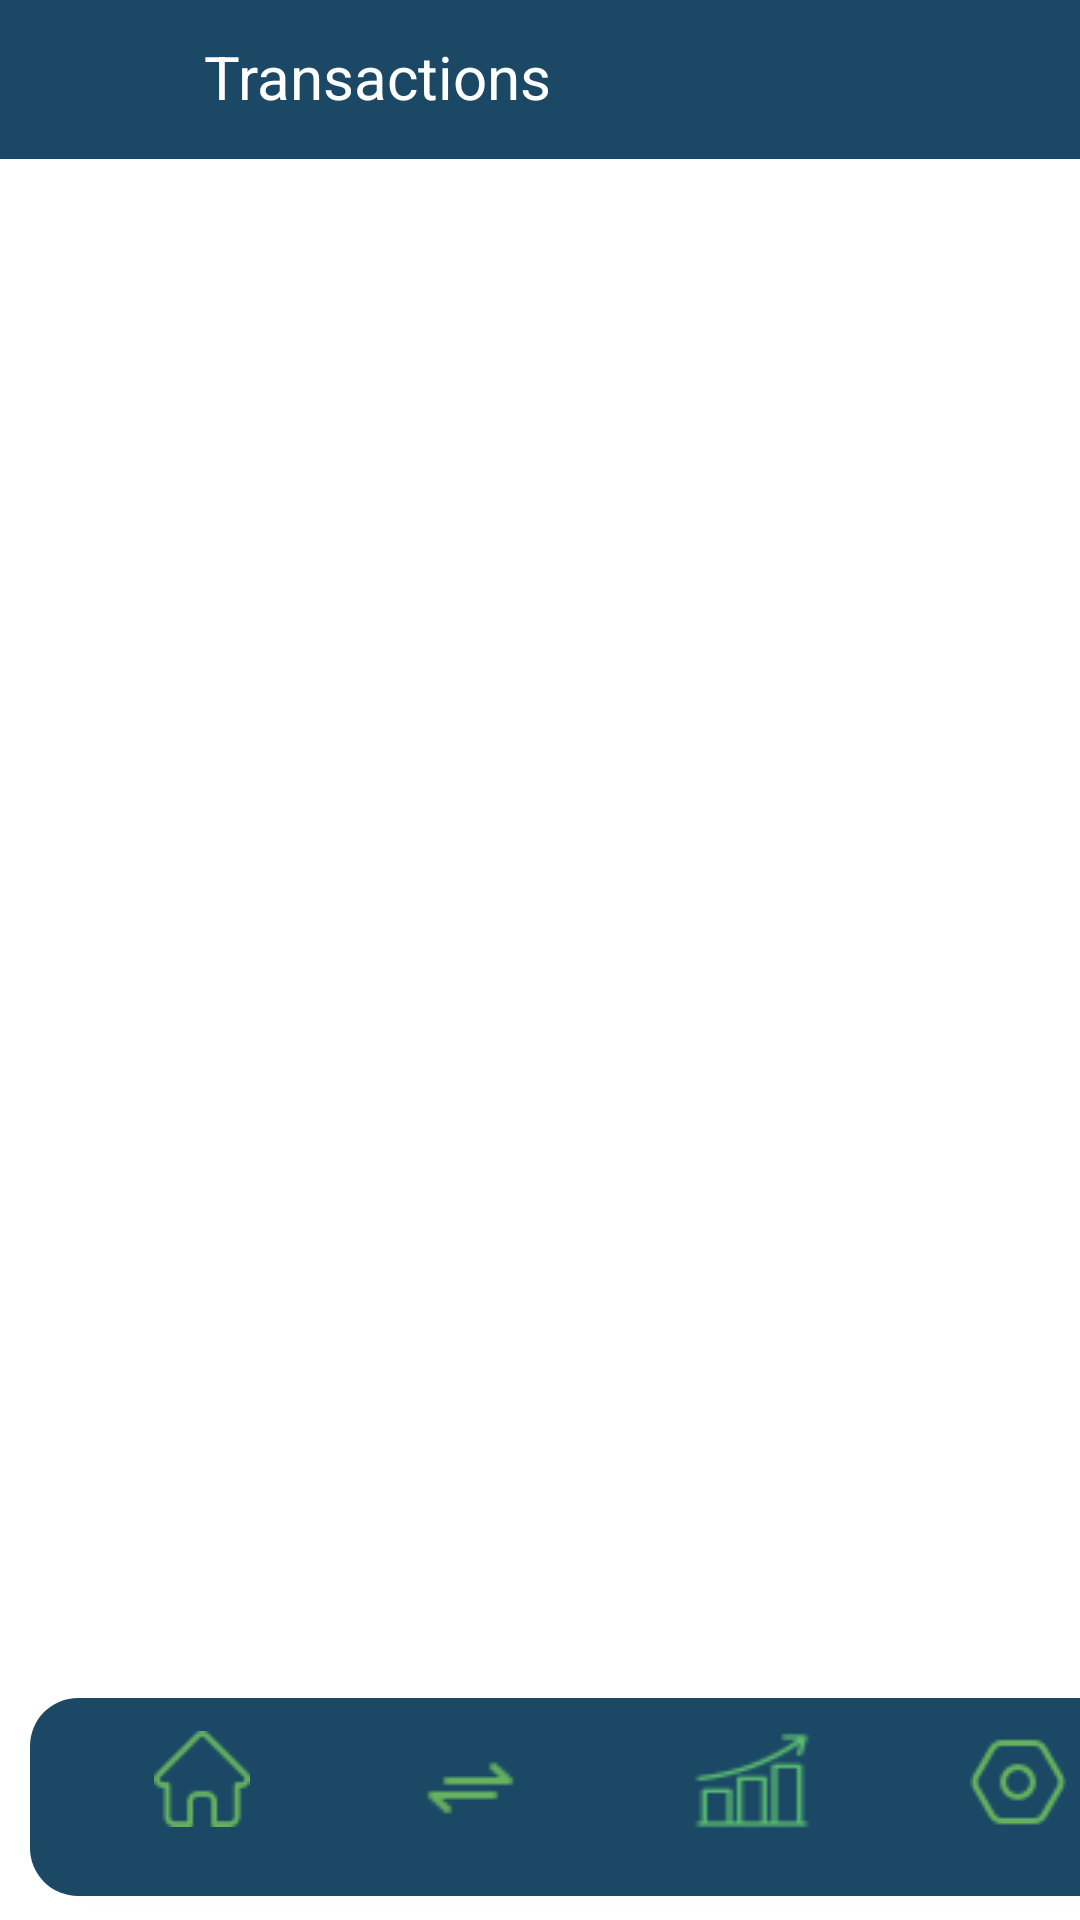

Icon click points for this 1080w x 1920h phone screenshot, format point (x, y):
graph: point (752, 1780)
tran: point (470, 1788)
